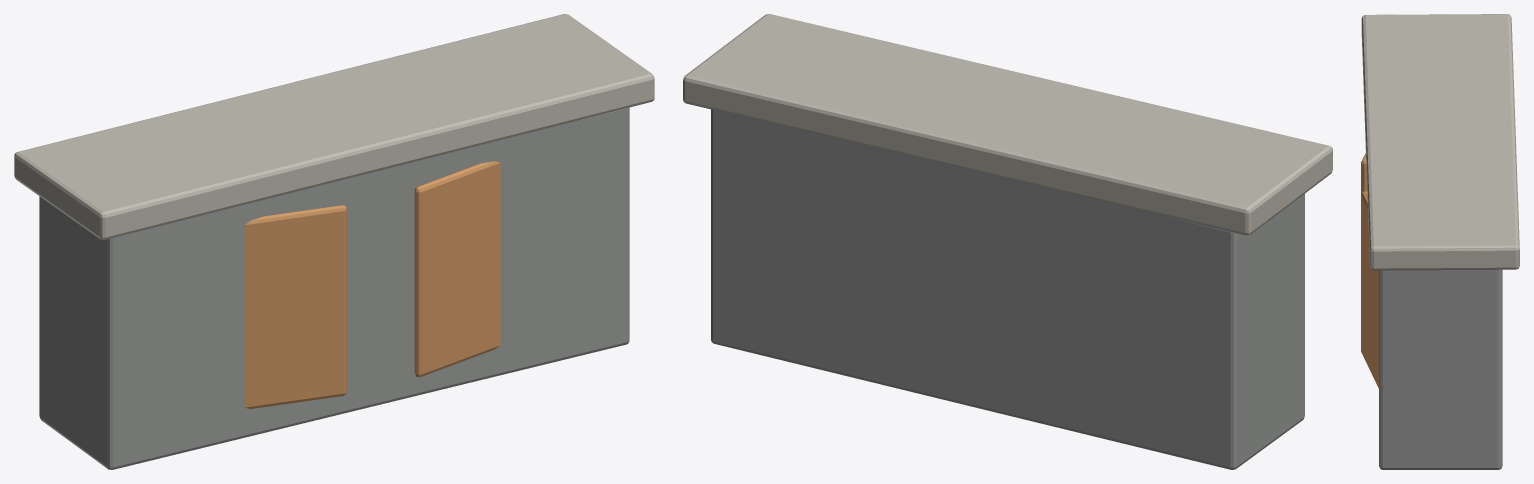
The model's file is Apoc_Prop_Concrete_Barricade.fbx.
3 views of the same model, side by side, from view 1: azimuth 30°, elevation 25°; view 2: azimuth 150°, elevation 25°; view 3: azimuth 270°, elevation 25° (orthographic). The views are drawn at different scales.
Visible parts, largest first — view 1: Apoc_Prop_Concrete_Barricade; view 2: Apoc_Prop_Concrete_Barricade; view 3: Apoc_Prop_Concrete_Barricade.
Part boxes in pixels (bbox=[...]): Apoc_Prop_Concrete_Barricade: bbox=[14, 14, 654, 469]; Apoc_Prop_Concrete_Barricade: bbox=[683, 14, 1332, 469]; Apoc_Prop_Concrete_Barricade: bbox=[1361, 14, 1519, 469].
Bounding box in the file's own units: 2.53 × 1.16 × 0.72.
